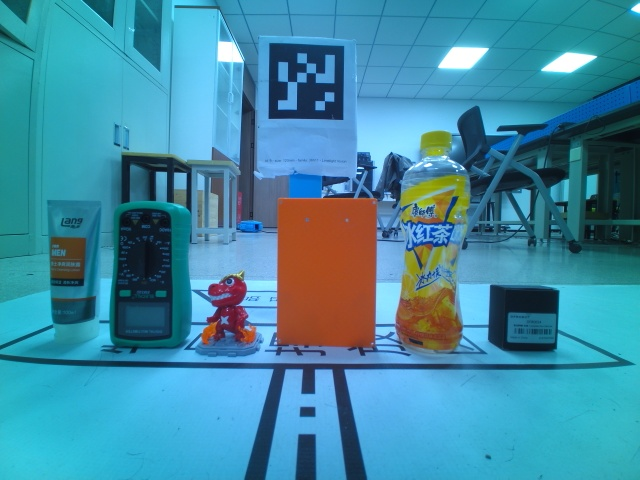banzi: (486, 283, 561, 351)
binghongcha: (197, 271, 264, 357)
dabao: (46, 200, 102, 346)
dianbiao: (393, 130, 471, 357)
hezi: (109, 200, 193, 350)
long: (275, 197, 379, 348)
